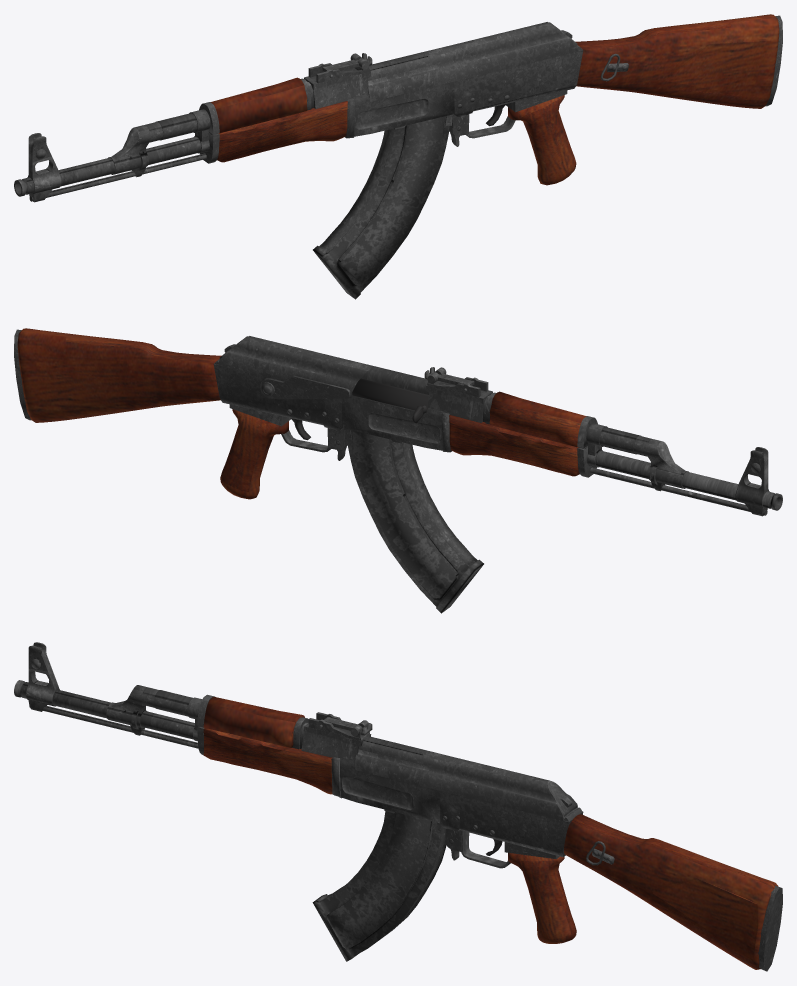
3 renders of one model, top to bottom at view 1: azimuth 30°, elevation 25°; view 2: azimuth 150°, elevation 25°; view 3: azimuth 330°, elevation 25°, orthographic.
Visible parts, largest first — view 1: AK47; view 2: AK47; view 3: AK47.
Part boxes in pixels (left/top/right/bottom): AK47: left=14, top=14, right=782, bottom=299; AK47: left=14, top=328, right=782, bottom=613; AK47: left=14, top=642, right=782, bottom=971.
Size of the model in its own units: 348 by 104 by 22.12.
